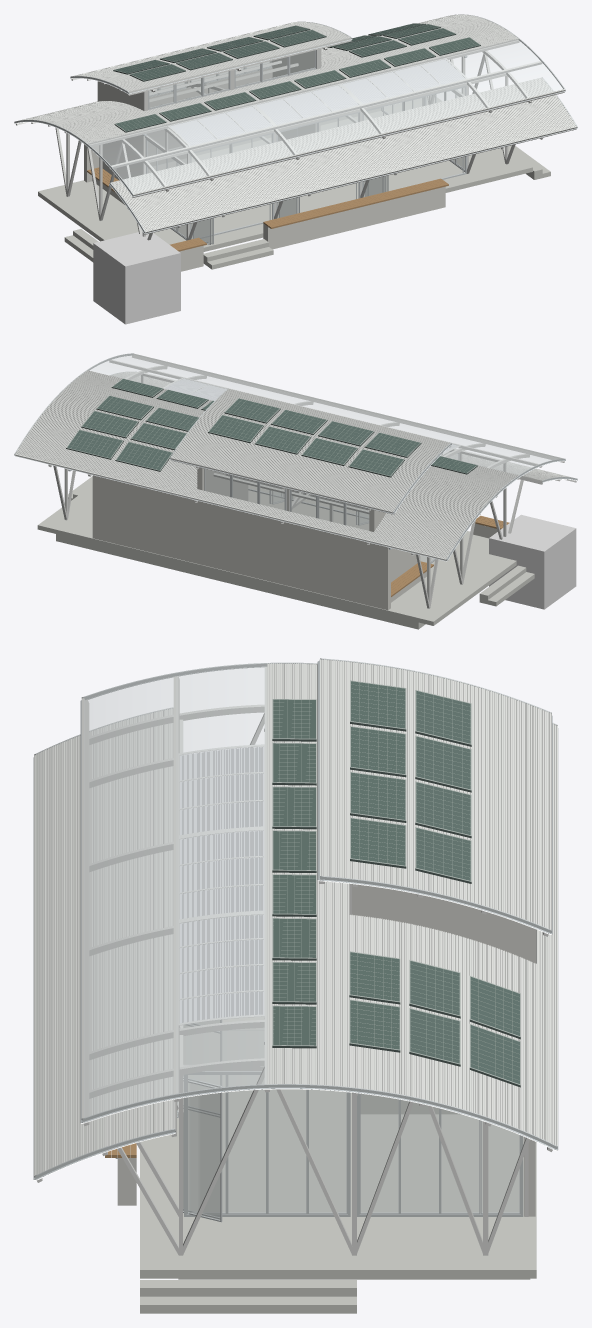
File: solarhouse_r9_pv_open_sage.glb
3 views of the same model, one above another, from view 1: azimuth 30°, elevation 25°; view 2: azimuth 150°, elevation 25°; view 3: azimuth 270°, elevation 25° (orthographic). The views are drawn at different scales.
Parts seen in each view (by area): view 1: 主屋盖_连续玻璃整体, 下挑檐_曲面覆层, 平台_14280x6200_顶标高450, 主屋盖_顺檩条无缝分带, Cube, 高窗屋盖_连续曲面, 南侧长座凳_实体基座, 北后墙_高窗下实体, 高窗西侧实体墙, 檩条002_2, 南侧连续横梁_Z3.55, 高窗东侧室内隔墙 (+43 smaller); view 2: 主屋盖_顺檩条无缝分带, 高窗屋盖_连续曲面, 北后墙_高窗下实体, 平台_14280x6200_顶标高450, 主屋盖_连续玻璃整体, 北后墙_东侧会谈区, Cube, 平台基础_按DWG剖面, 檩条002_1, 下挑檐_曲面覆层, PV | rear east roof | module 05, PV | rear east roof | module 06 (+31 smaller); view 3: 主屋盖_连续玻璃整体, 平台_14280x6200_顶标高450, 下挑檐_曲面覆层, 主屋盖_顺檩条无缝分带, 高窗屋盖_连续曲面, 高窗东侧室内隔墙, 东立面_折叠门1_2600x2500_扇2_玻璃, 东立面_折叠门1_2600x2500_扇4_玻璃, 东立面_折叠门1_2600x2500_扇3_玻璃, 东立面_折叠门2_2600x2500_扇1_玻璃, 东入口踏步1_踏步300_踢面150, 东立面_折叠门2_2600x2500_扇2_玻璃 (+54 smaller).
Boxes of the visible parts, box(x1,y1,x2,y2) form: 主屋盖_连续玻璃整体: box(88, 39, 563, 193); 下挑檐_曲面覆层: box(111, 77, 576, 232); 平台_14280x6200_顶标高450: box(38, 98, 532, 251); 主屋盖_顺檩条无缝分带: box(19, 14, 565, 195); Cube: box(93, 231, 180, 324); 高窗屋盖_连续曲面: box(72, 21, 351, 92); 南侧长座凳_实体基座: box(263, 186, 445, 249); 北后墙_高窗下实体: box(84, 68, 272, 182); 高窗西侧实体墙: box(97, 81, 148, 180); 檩条002_2: box(109, 61, 542, 169); 南侧连续横梁_Z3.55: box(147, 73, 506, 162); 高窗东侧室内隔墙: box(270, 50, 320, 141); 主屋盖_顺檩条无缝分带: box(14, 353, 563, 560); 高窗屋盖_连续曲面: box(170, 388, 450, 513); 北后墙_高窗下实体: box(197, 501, 390, 610); 平台_14280x6200_顶标高450: box(37, 485, 516, 625); 主屋盖_连续玻璃整体: box(89, 354, 562, 474); 北后墙_东侧会谈区: box(92, 475, 197, 563); Cube: box(489, 514, 576, 609); 平台基础_按DWG剖面: box(56, 534, 425, 629); 檩条002_1: box(132, 355, 564, 462); 下挑檐_曲面覆层: box(110, 371, 571, 481); PV | rear east roof | module 05: box(115, 441, 172, 471); PV | rear east roof | module 06: box(66, 429, 123, 459); 主屋盖_连续玻璃整体: box(84, 664, 266, 1117); 平台_14280x6200_顶标高450: box(140, 916, 536, 1278); 下挑檐_曲面覆层: box(34, 708, 175, 1176); 主屋盖_顺檩条无缝分带: box(81, 663, 557, 1146); 高窗屋盖_连续曲面: box(319, 659, 551, 929); 高窗东侧室内隔墙: box(352, 884, 535, 1114); 东立面_折叠门1_2600x2500_扇2_玻璃: box(228, 1075, 265, 1212); 东立面_折叠门1_2600x2500_扇4_玻璃: box(309, 1090, 346, 1212); 东立面_折叠门1_2600x2500_扇3_玻璃: box(269, 1089, 305, 1212); 东立面_折叠门2_2600x2500_扇1_玻璃: box(361, 1094, 398, 1212); 东入口踏步1_踏步300_踢面150: box(140, 1296, 356, 1313); 东立面_折叠门2_2600x2500_扇2_玻璃: box(401, 1100, 438, 1212).
Bounding box in the file's own units: 15.97 × 5.95 × 8.2.
